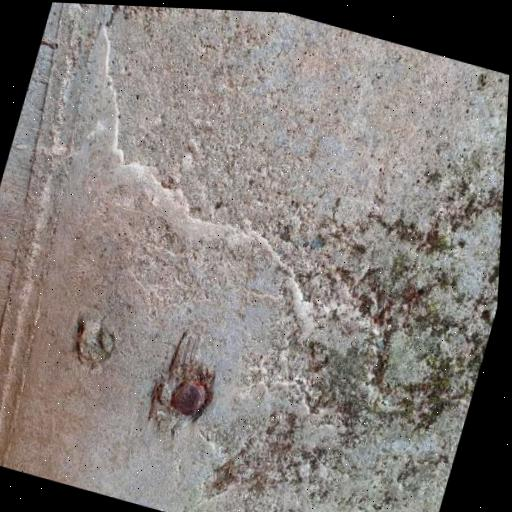exposed_rebar: (171, 382, 205, 416)
